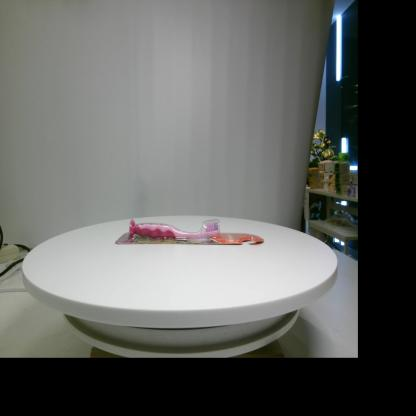Personal Hygiene: (115, 218, 264, 244)
